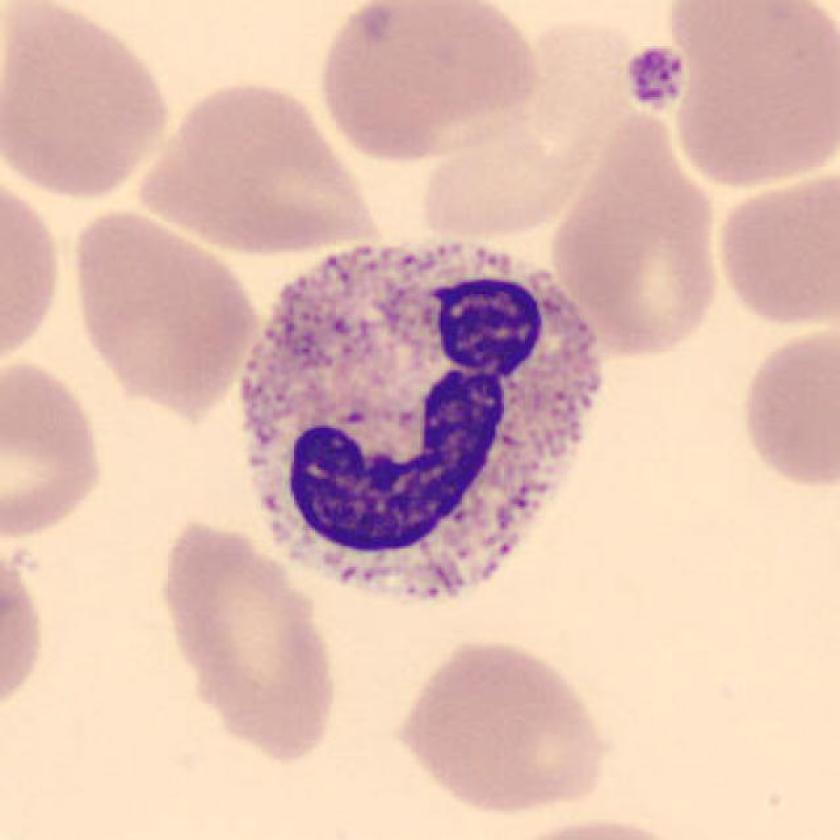neutrophil: (237, 240, 602, 603)
